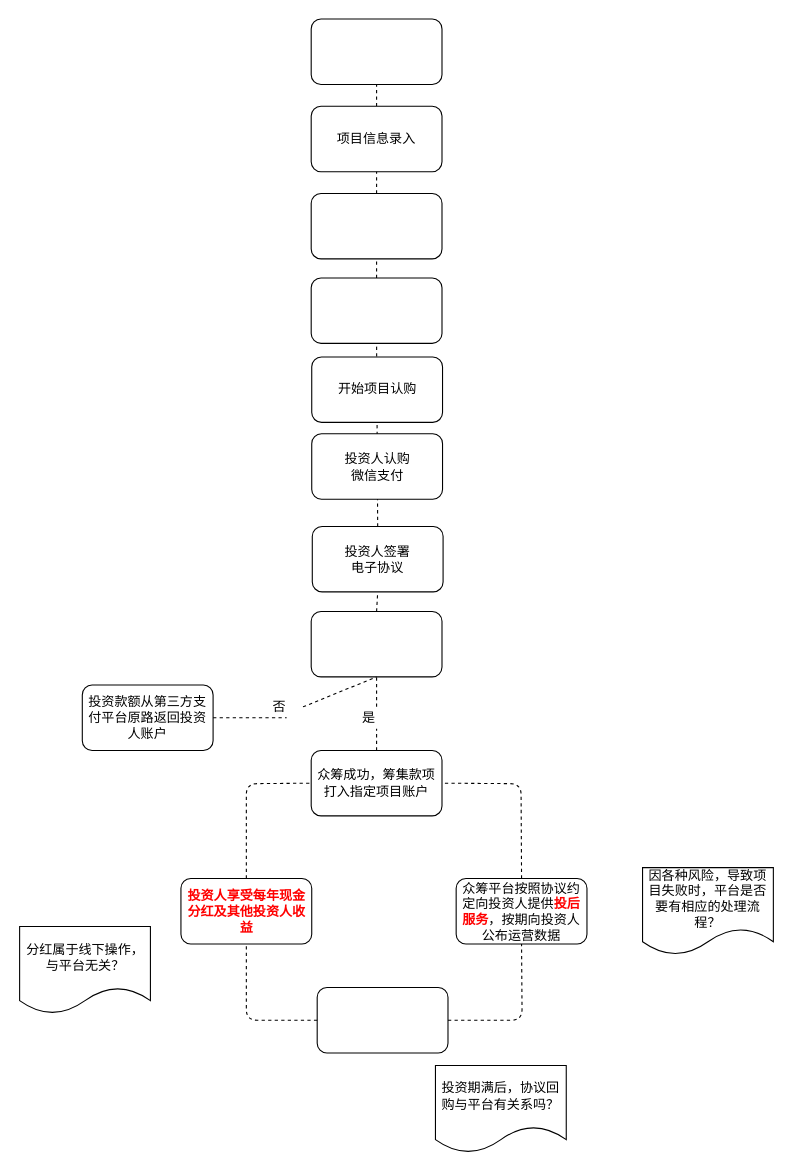
Image size: 792x1172. Some labels were removed from this diagram. The shapes that lost their labels are listed below. From the top down, each one's centre as x and y in pixels, then its label:
the point at 376,51: 众筹平台与合格的项目签订融资协议
the point at 376,225: 开始项目预约
the point at 376,310: 投资人预约 微信支付
the point at 376,643: 在预定时间内 筹满融资额
the point at 382,1019: 投资期满，融资方案；协议回购，投资结束
